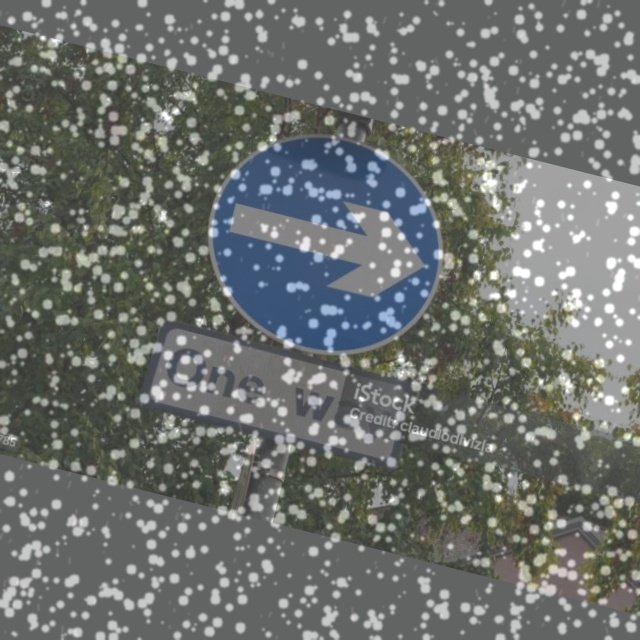Compulsory_Turn_Right: (183, 108, 471, 381)
